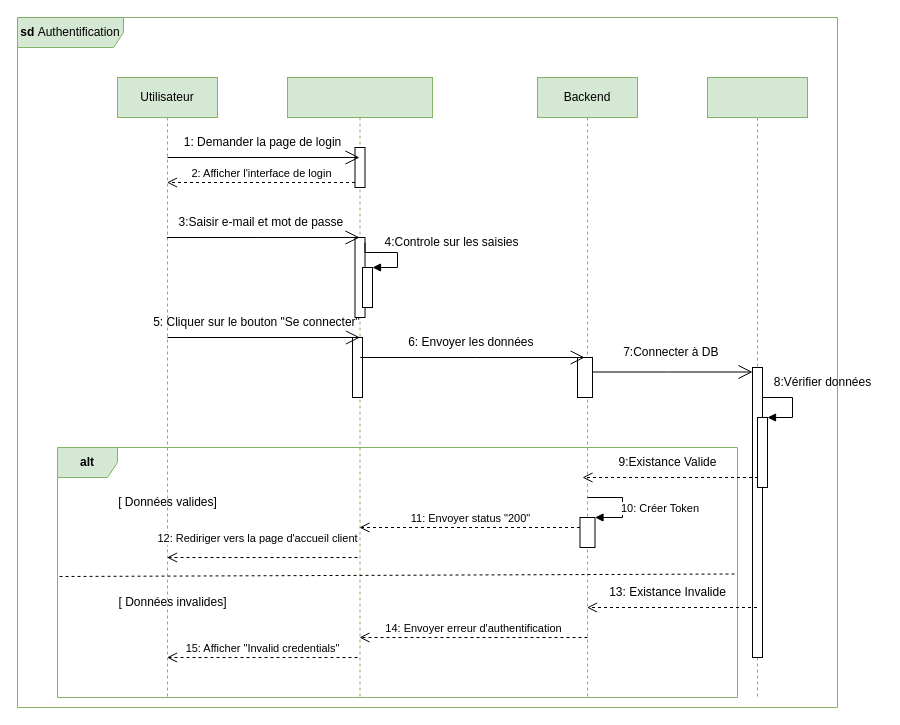
The diagram is 900 pixels wide and 725 high, and some of its shapes have lost their labels. Each missing label, with the centre of its shape:
Bases de données: point (757, 387)
Interface Utilisateur: point (359, 387)
